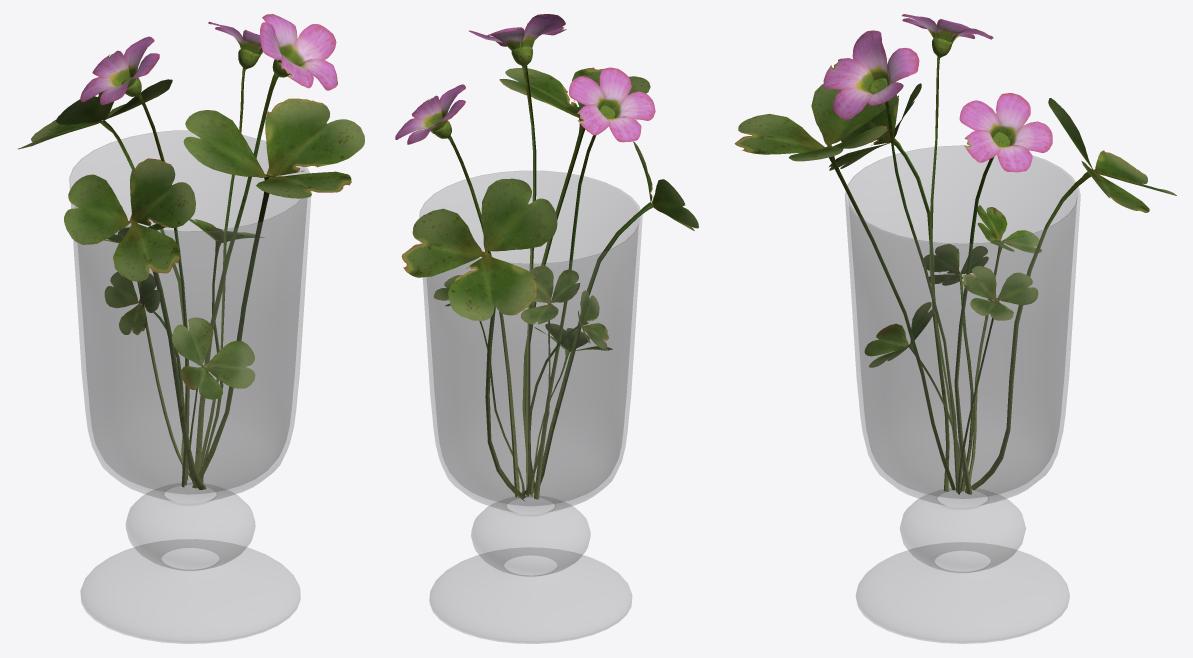
File: item-04.glb
The picture shows the model from 3 angles, left to right: view 1: azimuth 30°, elevation 25°; view 2: azimuth 150°, elevation 25°; view 3: azimuth 270°, elevation 25°; orthographic projection. The views are drawn at different scales.
Visible parts, largest first — view 1: GlassAlpha, Flowers1; view 2: GlassAlpha, Flowers1; view 3: GlassAlpha, Flowers1.
Boxes of the visible parts, <box> form: GlassAlpha: <box>69,130,311,643</box>; Flowers1: <box>18,14,364,489</box>; GlassAlpha: <box>419,170,642,643</box>; Flowers1: <box>395,14,698,501</box>; GlassAlpha: <box>845,145,1080,643</box>; Flowers1: <box>734,14,1176,494</box>.
Bounding box in the file's own units: 0.0973 × 0.2032 × 0.1425.
2 materials, 1 textured.
